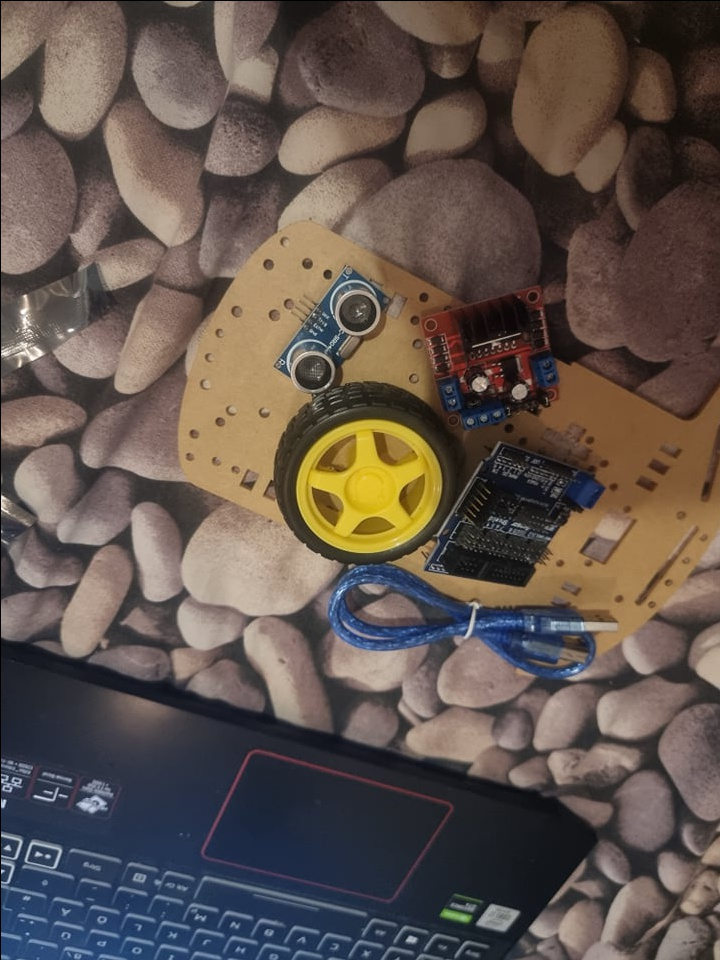5V EXPANSION: (422, 437, 604, 585)
MOTOR: (422, 287, 563, 421)
SENSOR: (277, 262, 386, 396)
